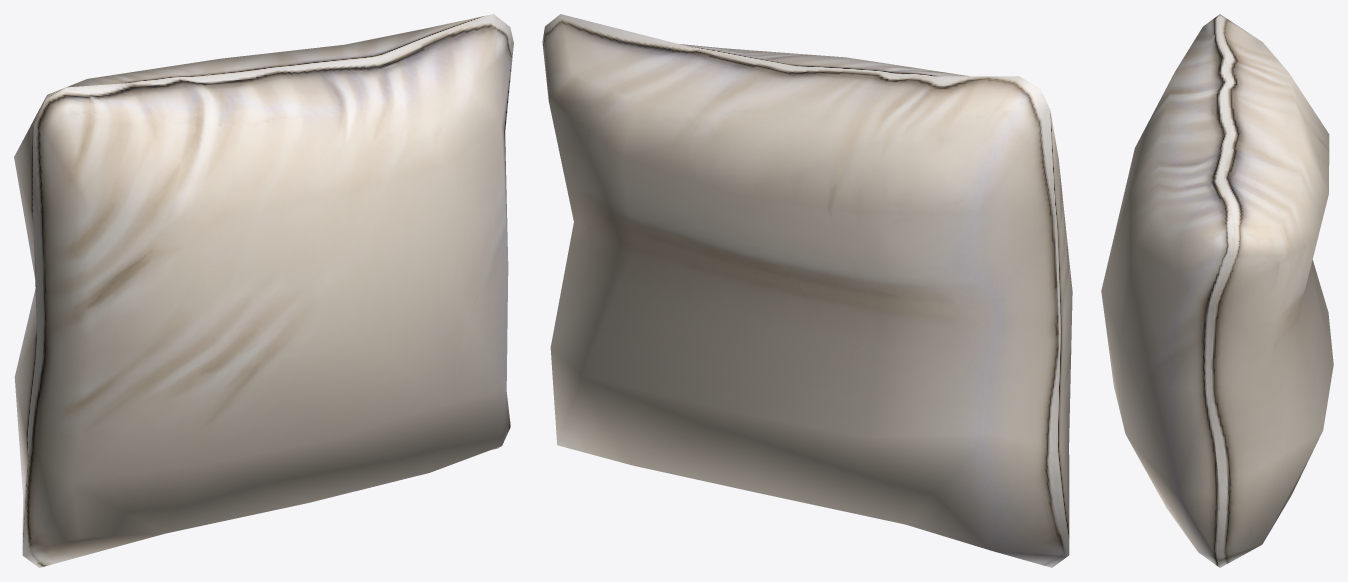
Rendered from PillowE.FBX.
3 views of the same model, side by side, from view 1: azimuth 30°, elevation 25°; view 2: azimuth 150°, elevation 25°; view 3: azimuth 270°, elevation 25° (orthographic). The views are drawn at different scales.
Visible parts, largest first — view 1: PillowE; view 2: PillowE; view 3: PillowE.
Part boxes in pixels (x1,y1,x2,y2): PillowE: (14,14,513,567); PillowE: (542,14,1072,567); PillowE: (1101,14,1333,567).
Size of the model in its own units: 50.51 by 24.89 by 45.4.
